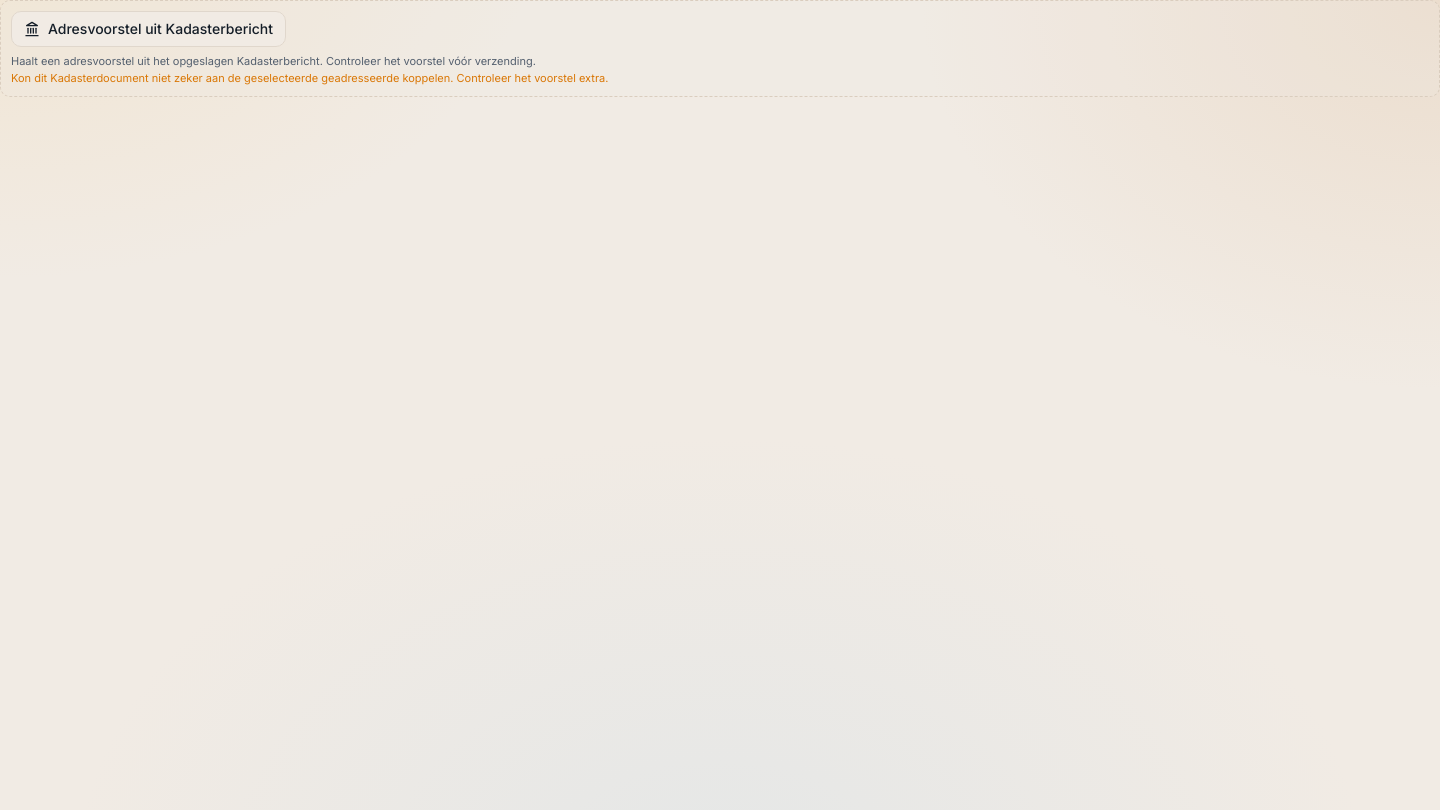
Test case: KadasterPdfAdresVoorstelPanel › toont nette melding bij Edge Function fout (502)
Click the button with test id "kpv-start-knop": (148, 29) [11,11,286,47]
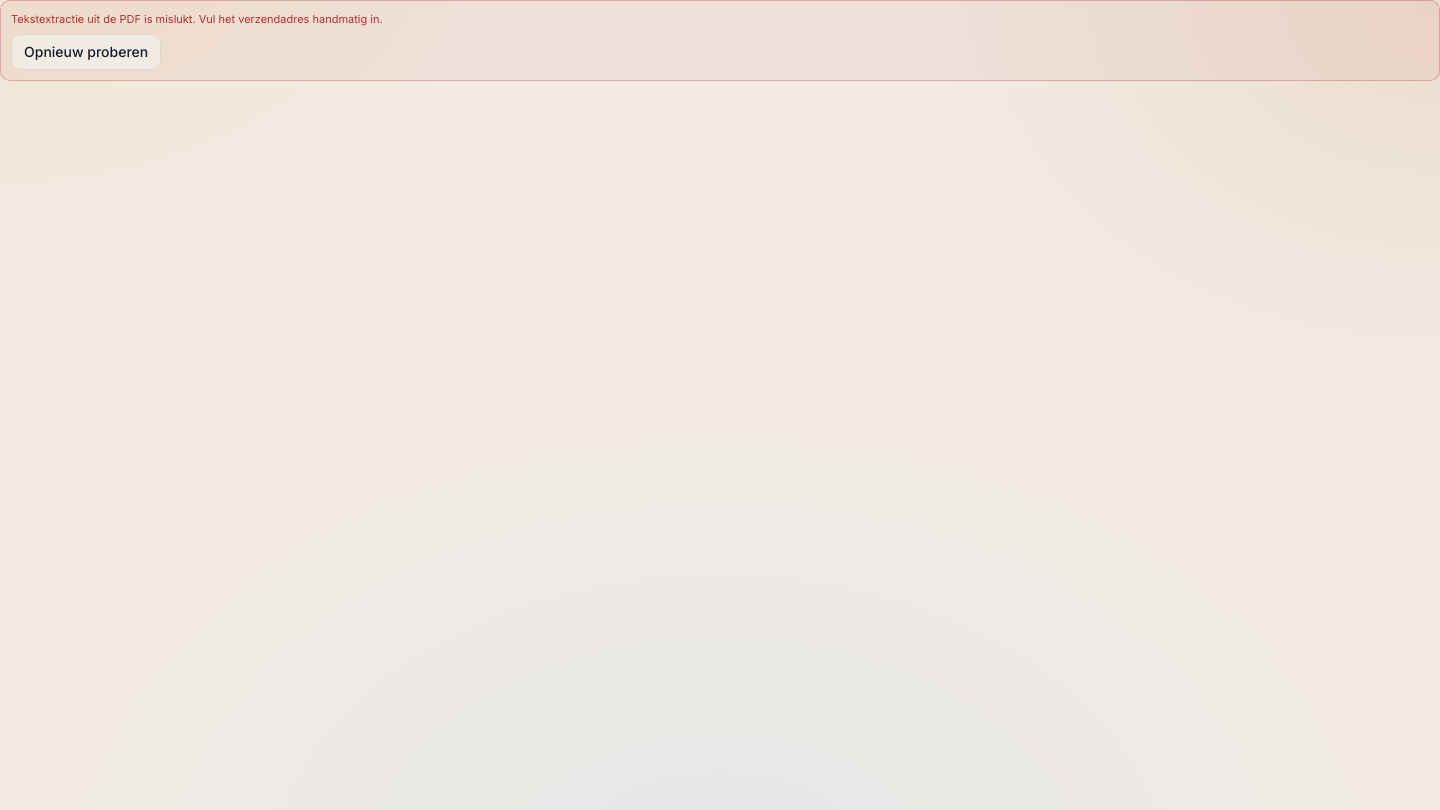
Expected: the text with test id "kpv-fout" shows "Tekstextractie", [11,12,383,26]
